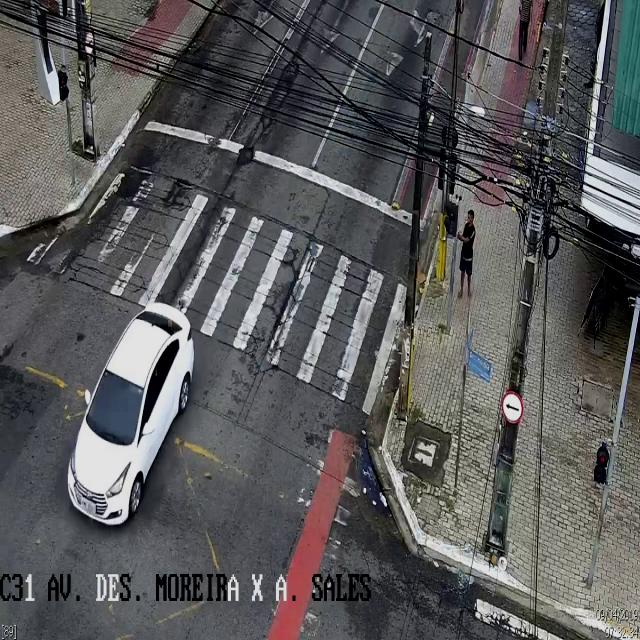Car: (67, 300, 193, 528)
